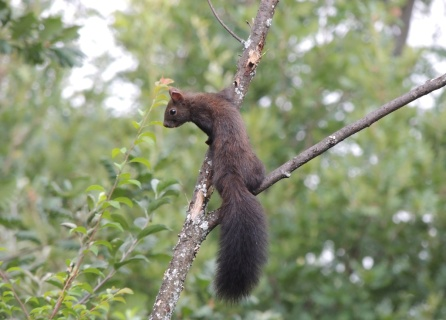Squirrel: (162, 84, 269, 308)
